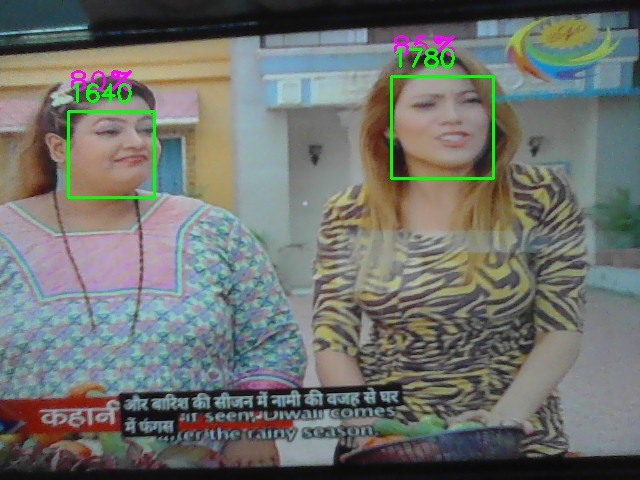fake: (391, 76, 494, 179), (68, 111, 155, 198)
